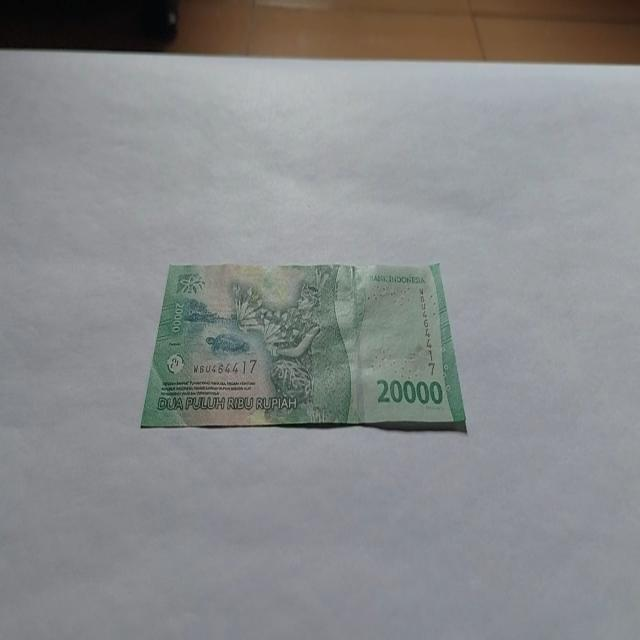dua puluh ribu rupiah: (140, 258, 468, 434)
